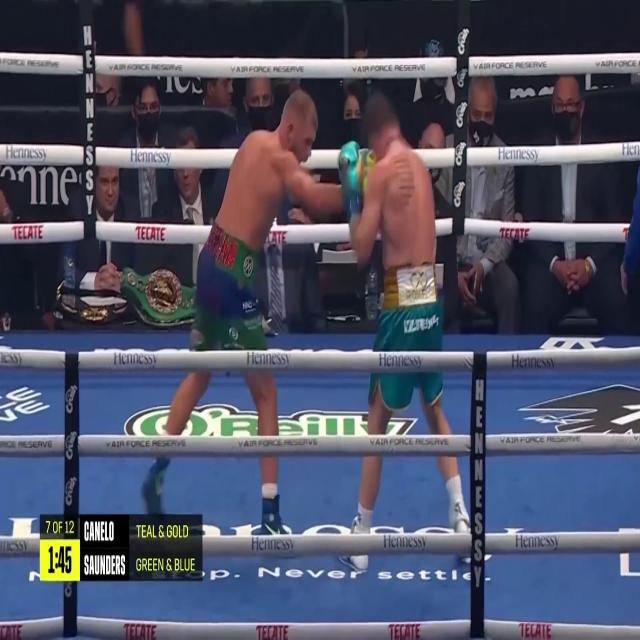boxer_1: (215, 90, 318, 249)
boxer_2: (365, 94, 436, 271)
gloves_1: (360, 149, 375, 199)
gloves_2: (339, 141, 362, 223)
